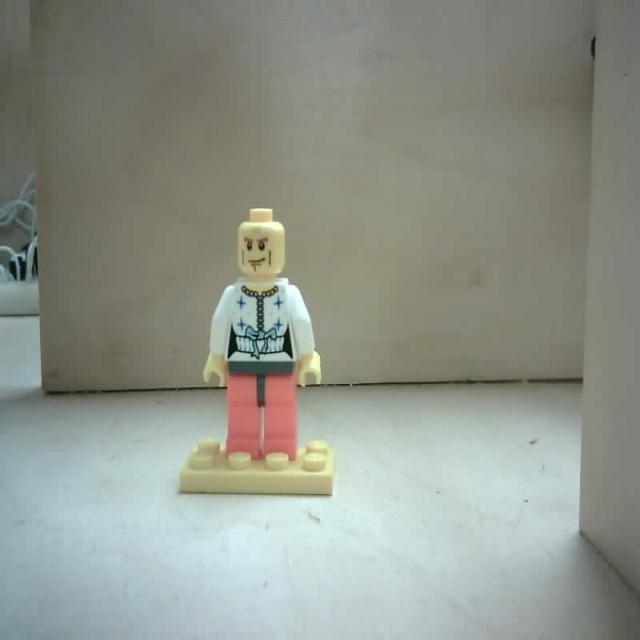Lego-People: (169, 202, 340, 509)
